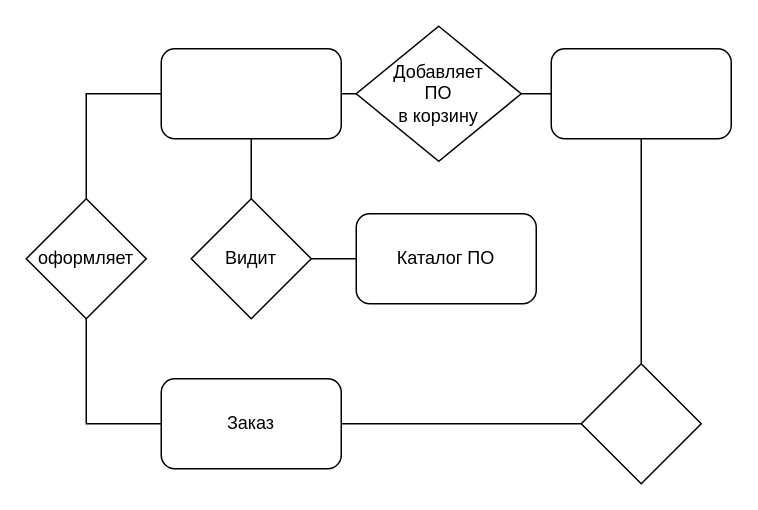
Image size: 758x510. Some labels were removed from this diagram. The centre of each missing label's shape, as x and y in pixels:
Корзина: the point at 640,93
Пользователь: the point at 250,93
Попадает в заказ: the point at 640,423
